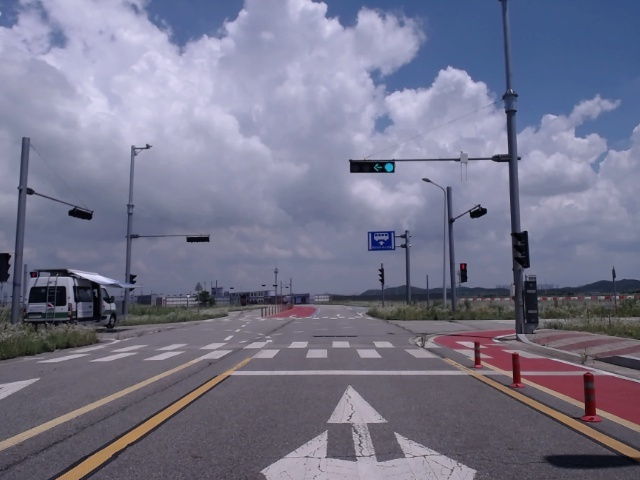all_green_4: (350, 159, 396, 172)
